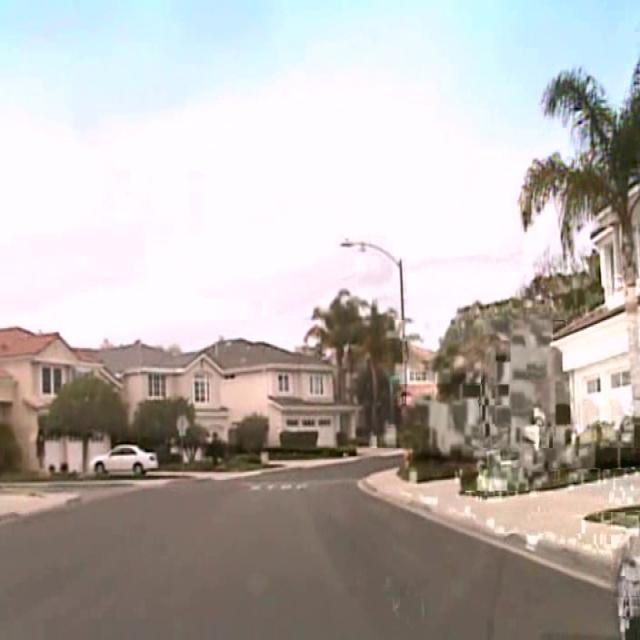stop_sign: (396, 388, 414, 412)
